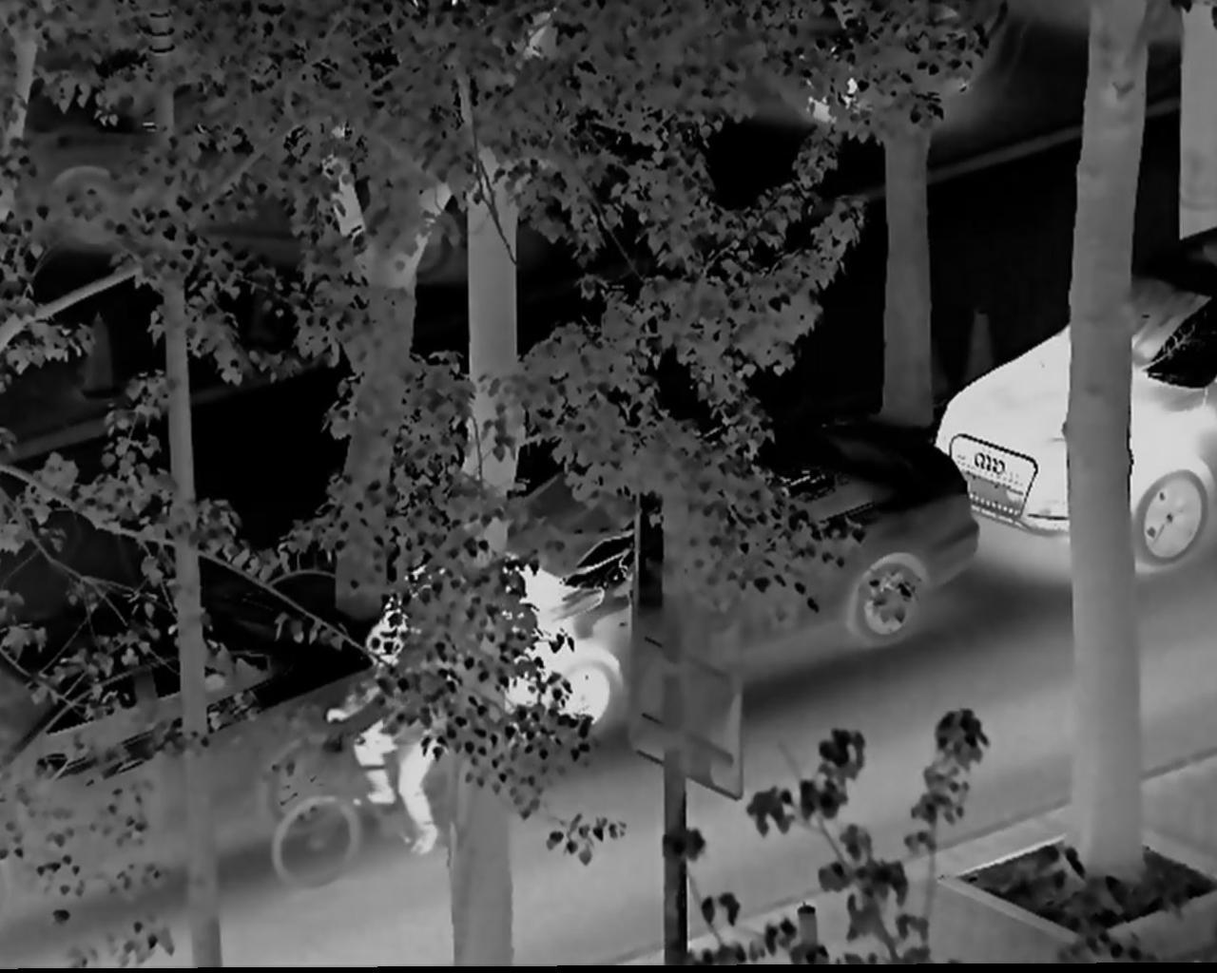person: (323, 598, 446, 832)
